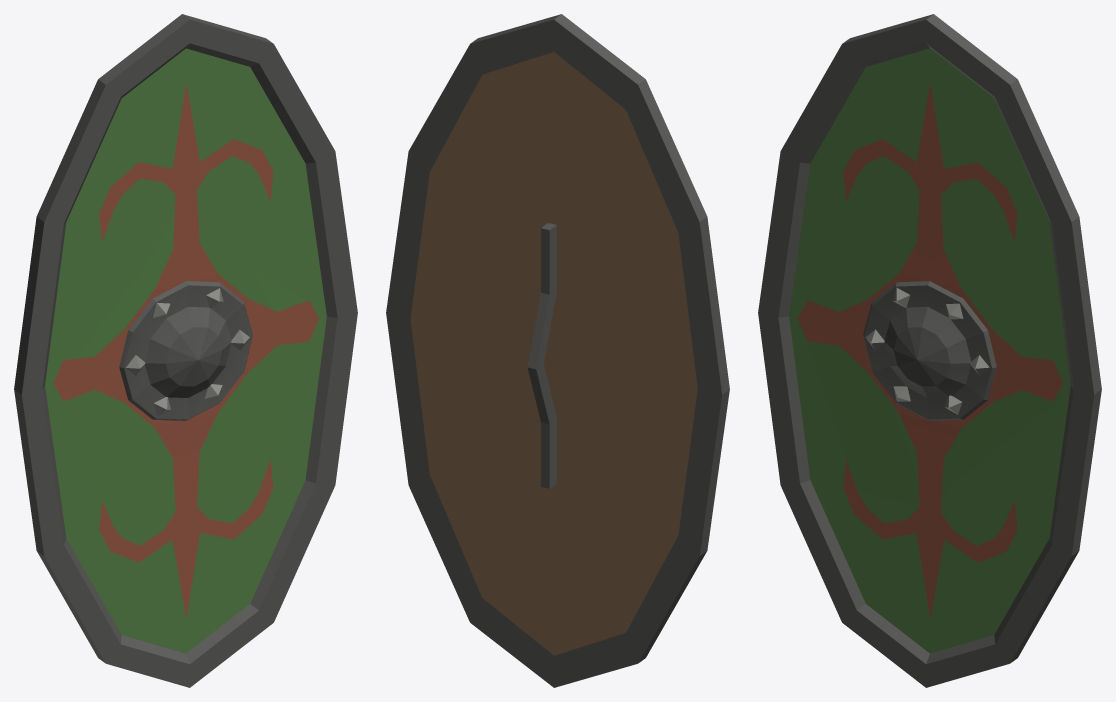
The model's file is SM_pwe_gauls_shield_07.fbx.
The picture shows the model from 3 angles, left to right: view 1: azimuth 30°, elevation 25°; view 2: azimuth 150°, elevation 25°; view 3: azimuth 330°, elevation 25°; orthographic projection.
Visible parts, largest first — view 1: SM_pwe_gauls_shield_07; view 2: SM_pwe_gauls_shield_07; view 3: SM_pwe_gauls_shield_07.
Part boxes in pixels (x1=…): SM_pwe_gauls_shield_07: x1=14, y1=14, x2=357, y2=687; SM_pwe_gauls_shield_07: x1=386, y1=14, x2=729, y2=687; SM_pwe_gauls_shield_07: x1=758, y1=14, x2=1101, y2=687.
Size of the model in its own units: 58.97 by 112 by 11.28.
